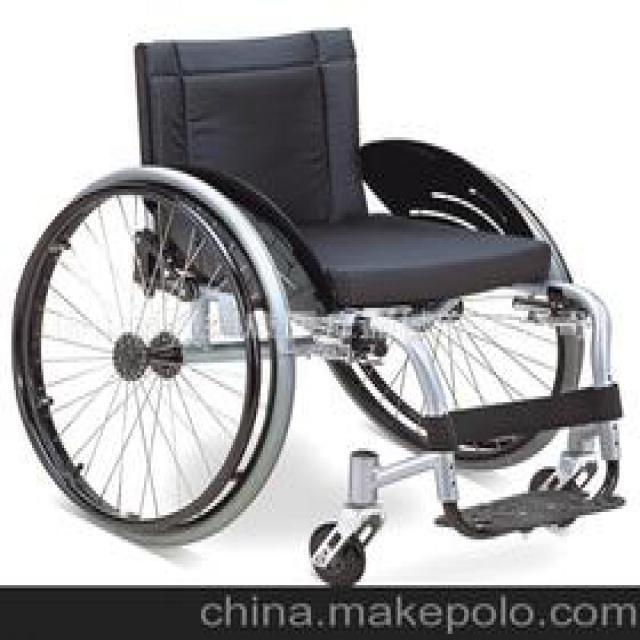wheelchair: (9, 15, 638, 582)
